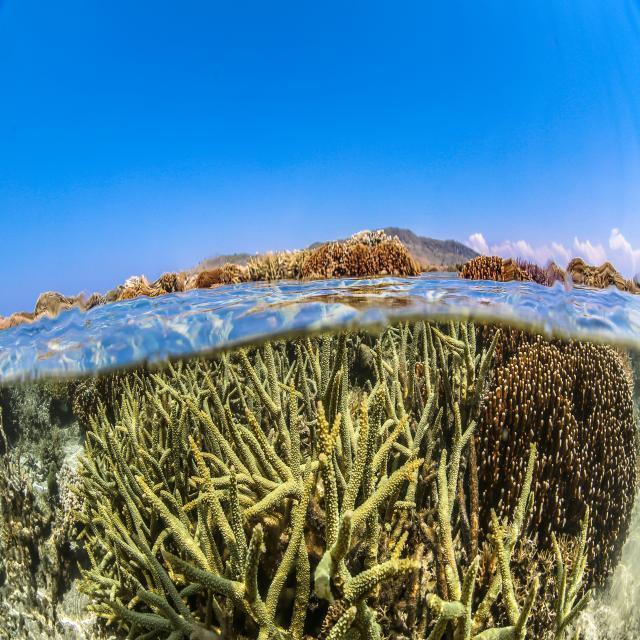Healthy Coral: (111, 351, 618, 640)
